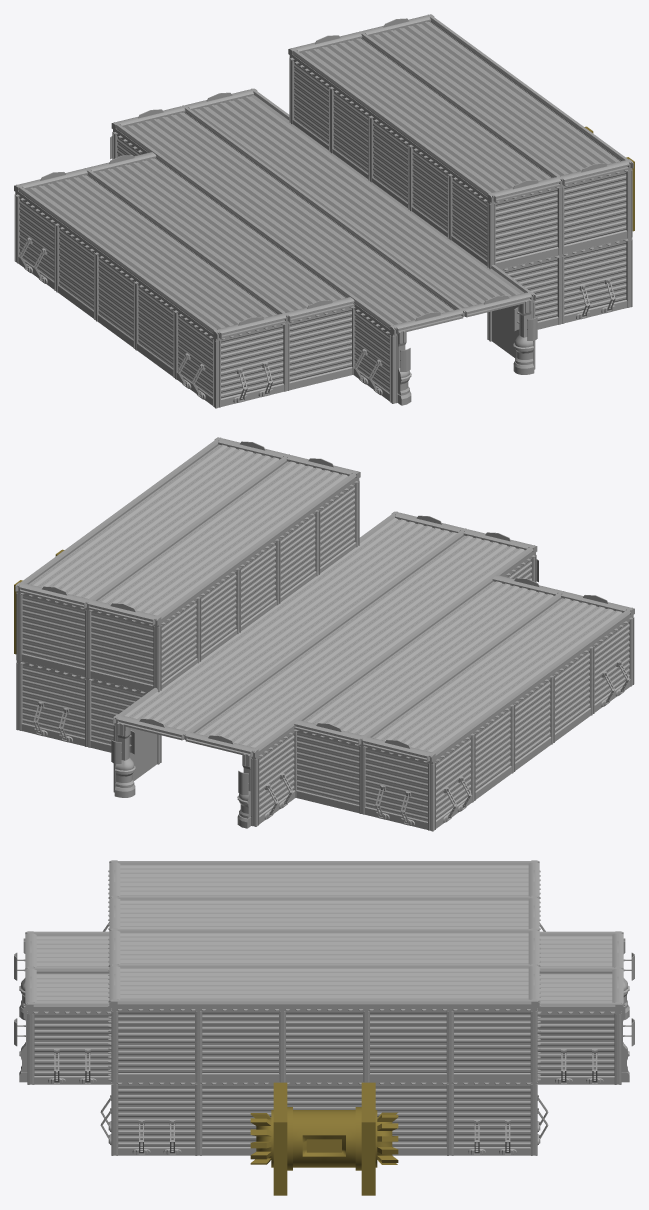
File: Checkpoint01.fbx
The picture shows the model from 3 angles, top to bottom: view 1: azimuth 30°, elevation 25°; view 2: azimuth 150°, elevation 25°; view 3: azimuth 270°, elevation 25°; orthographic projection. The views are drawn at different scales.
Visible parts, largest first — view 1: Roof06, Roof07, Roof05, WallFullPrefab16, WallFullPrefab12, WallFullPrefab22, WallFullPrefab13, WallFullPrefab14, ShieldGenerator06, WallFullPrefab15, WallFullPrefab17, ShieldGenerator05; view 2: Roof06, Roof07, Roof05, WallFullPrefab18, WallFullPrefab12, WallFullPrefab22, WallFullPrefab21, WallFullPrefab20, ShieldGenerator08, WallFullPrefab19, ShieldGenerator07; view 3: WallFullPrefab17, Roof07, Roof05, Roof06, FullGeneratorAssembly02, WallFullPrefab15, WallFullPrefab19, WallFullPrefab18, ShieldGenerator06, ShieldGenerator08, Brackets19, Brackets20 (+2 smaller).
Boxes of the visible parts, box(x1,y1,x2,y2) form: Roof06: box(111, 88, 535, 334); Roof07: box(288, 14, 633, 202); Roof05: box(14, 152, 354, 339); WallFullPrefab16: box(487, 170, 628, 341); WallFullPrefab12: box(14, 192, 213, 405); WallFullPrefab22: box(289, 55, 487, 265); WallFullPrefab13: box(213, 306, 352, 408); WallFullPrefab14: box(352, 306, 397, 403); ShieldGenerator06: box(513, 300, 537, 374); WallFullPrefab15: box(492, 300, 535, 369); WallFullPrefab17: box(626, 168, 632, 307); ShieldGenerator05: box(397, 331, 411, 405); Roof06: box(113, 511, 537, 757); Roof07: box(15, 437, 360, 625); Roof05: box(294, 575, 634, 762); WallFullPrefab18: box(16, 591, 153, 752); WallFullPrefab12: box(428, 617, 632, 831); WallFullPrefab22: box(153, 480, 358, 692); WallFullPrefab21: box(293, 729, 428, 829); WallFullPrefab20: box(251, 729, 296, 826); ShieldGenerator08: box(111, 723, 135, 797); WallFullPrefab19: box(113, 723, 161, 792); ShieldGenerator07: box(237, 754, 251, 828); WallFullPrefab17: box(111, 1008, 531, 1155); Roof07: box(109, 928, 539, 1008); Roof05: box(109, 860, 539, 929); Roof06: box(25, 931, 623, 1010); FullGeneratorAssembly02: box(250, 1082, 398, 1195); WallFullPrefab15: box(27, 1011, 111, 1084); WallFullPrefab19: box(537, 1011, 621, 1084); WallFullPrefab18: box(530, 938, 540, 1155); ShieldGenerator06: box(14, 1003, 27, 1082); ShieldGenerator08: box(621, 1003, 634, 1082); Brackets19: box(468, 1120, 516, 1155); Brackets20: box(555, 1049, 603, 1084).
Bounding box in the file's own units: 2231 × 636 × 2247.
